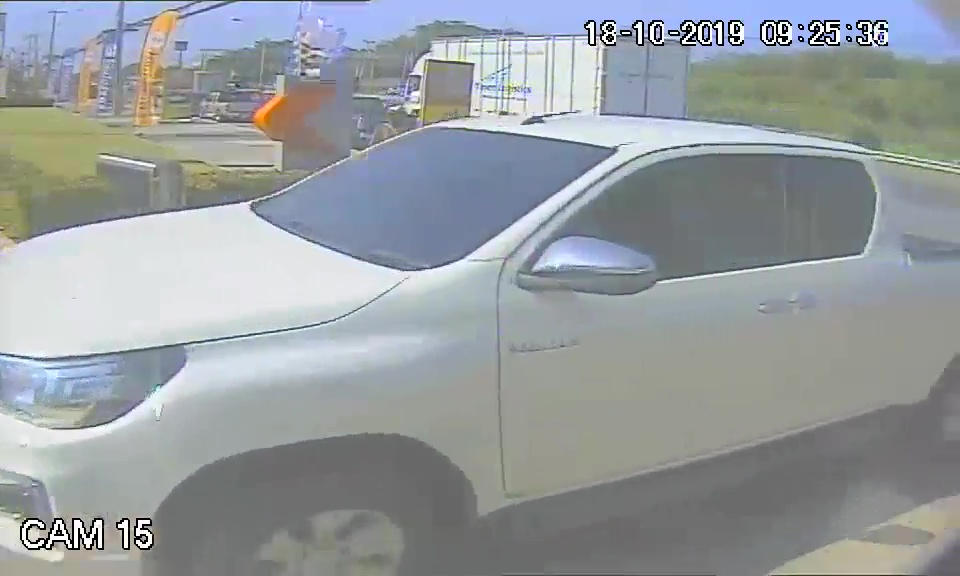pickup: (8, 119, 960, 514)
